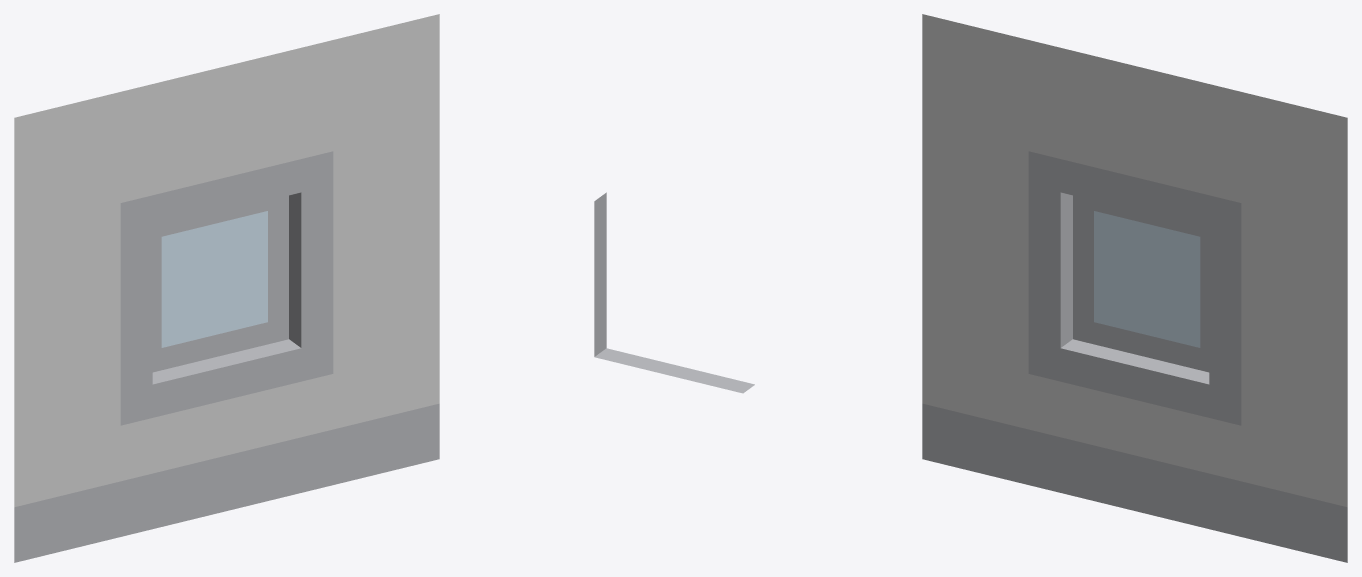
Rendered from wall_windowA.glb.
3 renders of one model, left to right at view 1: azimuth 30°, elevation 25°; view 2: azimuth 150°, elevation 25°; view 3: azimuth 330°, elevation 25°, orthographic.
Visible parts, largest first — view 1: wall_windowA; view 2: wall_windowA; view 3: wall_windowA.
Part boxes in pixels (left/top/right/bottom): wall_windowA: left=14, top=14, right=439, bottom=562; wall_windowA: left=594, top=192, right=754, bottom=393; wall_windowA: left=922, top=14, right=1347, bottom=562.
Size of the model in its own units: 0.4 by 0.4 by 0.02.
